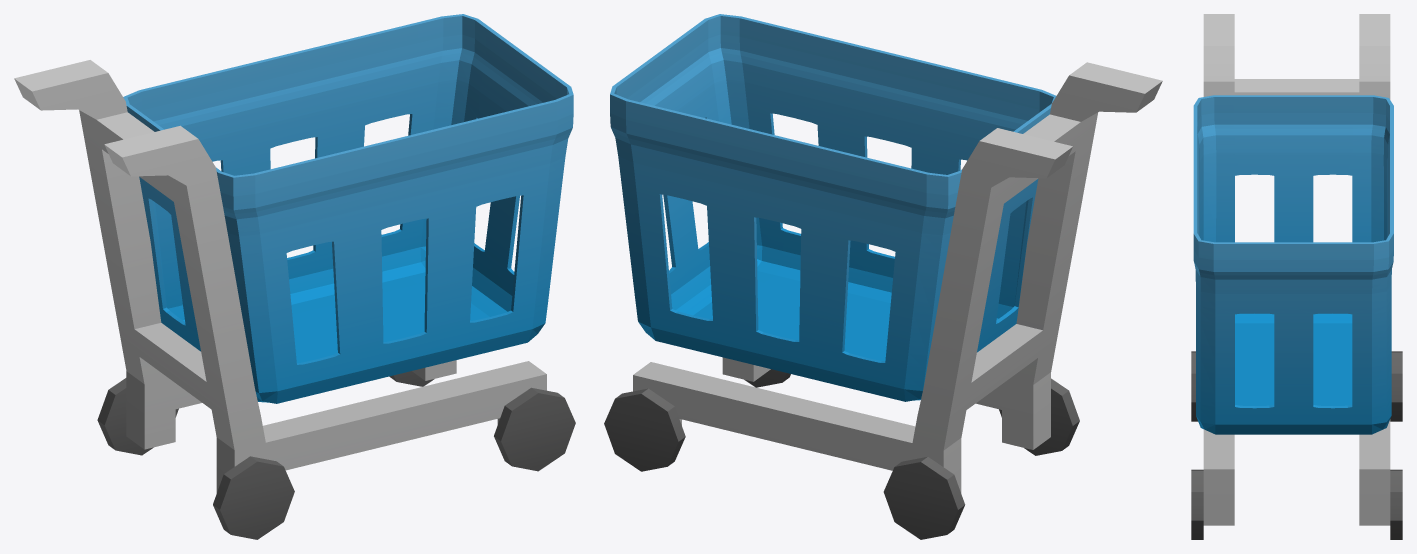
File: cart_blue.fbx
3 views of the same model, side by side, from view 1: azimuth 30°, elevation 25°; view 2: azimuth 150°, elevation 25°; view 3: azimuth 270°, elevation 25° (orthographic). The views are drawn at different scales.
Visible parts, largest first — view 1: cart_blue; view 2: cart_blue; view 3: cart_blue.
Boxes of the visible parts, box(x1,y1,x2,y2) form: cart_blue: box(14, 14, 575, 539); cart_blue: box(604, 14, 1162, 539); cart_blue: box(1191, 14, 1402, 539).
Bounding box in the file's own units: 728 × 625 × 340.
